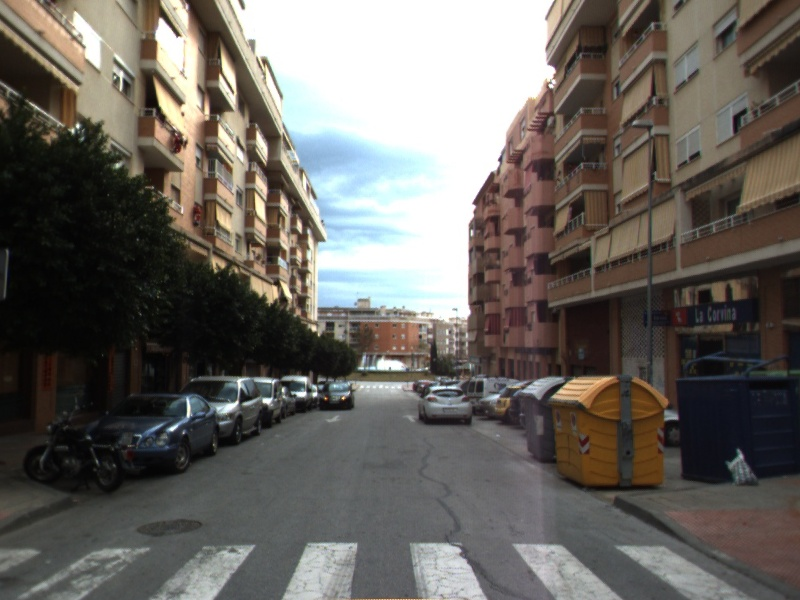STRAIGHT: (401, 412, 419, 424)
